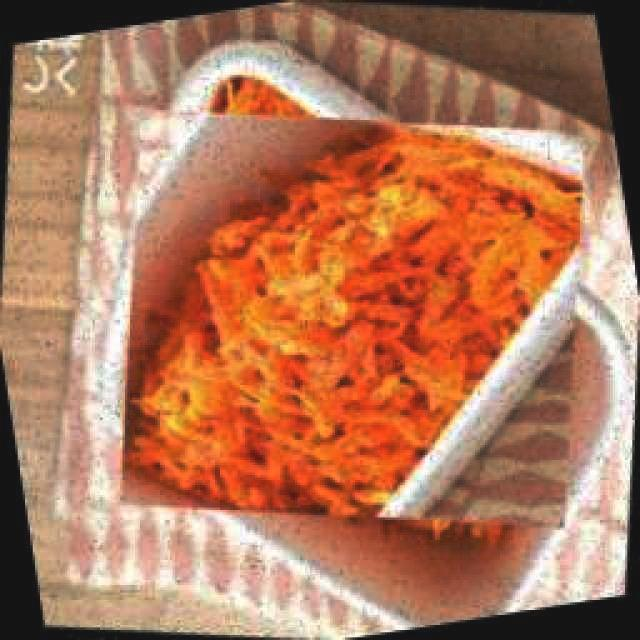carrot_eggs: (125, 129, 580, 529)
